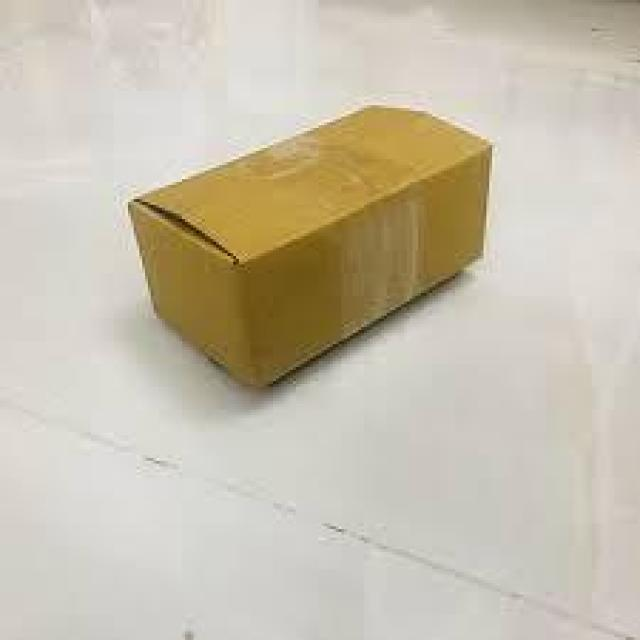box: (125, 105, 494, 392)
